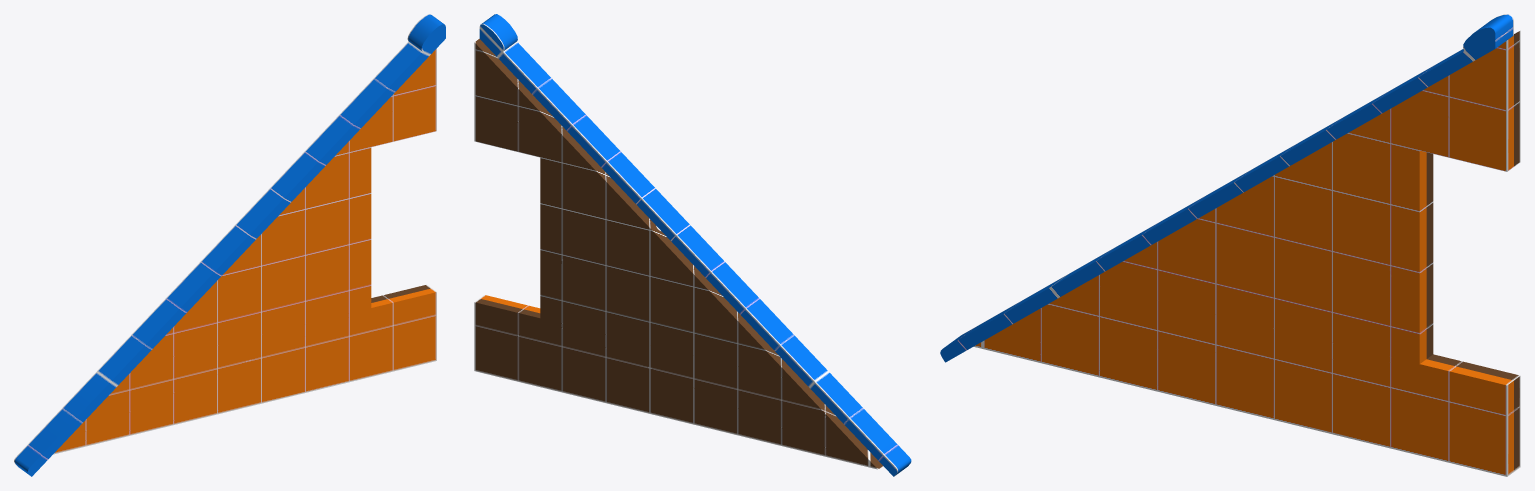
Rendered from M01Roof01_2WindowTypeE.FBX.
3 renders of one model, left to right at view 1: azimuth 30°, elevation 25°; view 2: azimuth 150°, elevation 25°; view 3: azimuth 330°, elevation 25°, orthographic. The views are drawn at different scales.
Parts seen in each view (by area): view 1: M01Roof01_2WindowTypeE; view 2: M01Roof01_2WindowTypeE; view 3: M01Roof01_2WindowTypeE.
Boxes of the visible parts, box(x1,y1,x2,y2) form: M01Roof01_2WindowTypeE: box(14, 14, 445, 476); M01Roof01_2WindowTypeE: box(474, 14, 911, 476); M01Roof01_2WindowTypeE: box(940, 14, 1520, 476).
Size of what is drawn, in the model's own units: 4.76 by 3.84 by 0.3758.
